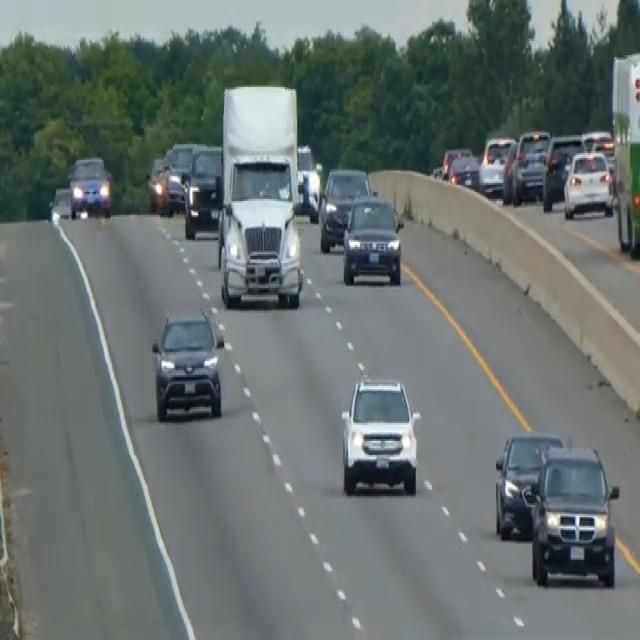bus: (609, 46, 639, 258)
car: (529, 442, 619, 588), (339, 372, 421, 496), (150, 306, 225, 421), (493, 428, 563, 538), (341, 192, 404, 286), (318, 164, 372, 252), (149, 139, 205, 215), (183, 144, 223, 238), (562, 148, 614, 218), (541, 132, 586, 210), (68, 153, 112, 219), (512, 128, 550, 203), (478, 133, 514, 194), (295, 142, 321, 219), (146, 154, 170, 212), (448, 151, 480, 189), (501, 138, 520, 202), (439, 144, 470, 180), (48, 183, 73, 224)
lorry: (215, 80, 304, 309)
